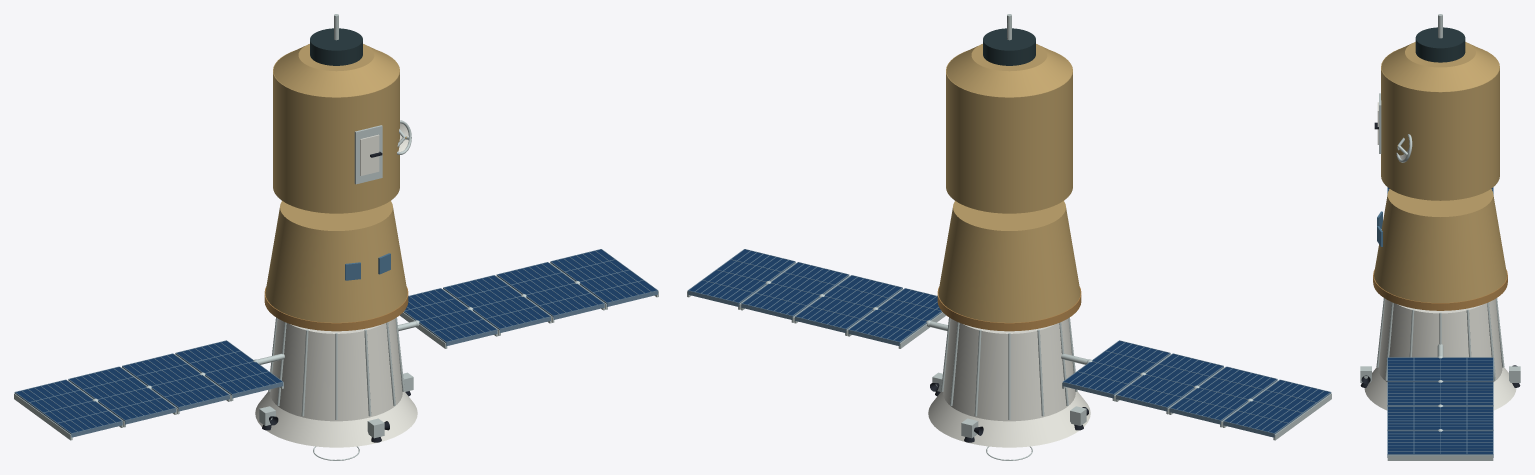
File: shenzhou.glb
3 views of the same model, side by side, from view 1: azimuth 30°, elevation 25°; view 2: azimuth 150°, elevation 25°; view 3: azimuth 270°, elevation 25° (orthographic). The views are drawn at different scales.
Parts seen in each view (by area): view 1: photovoltaic-panel (×8), body, service, crew, solar (×8), docking, heatshield; view 2: photovoltaic-panel (×8), body, service, crew, solar (×8), docking, heatshield; view 3: body, crew, photovoltaic-panel (×4), service, solar (×4), docking (×2), heatshield.
Boxes of the visible parts, left/top/right/bottom form: photovoltaic-panel (×8): left=16, top=249, right=656, bottom=432; body: left=273, top=44, right=399, bottom=213; service: left=255, top=317, right=417, bottom=460; crew: left=265, top=201, right=407, bottom=322; solar (×8): left=14, top=249, right=658, bottom=440; docking: left=310, top=14, right=362, bottom=65; heatshield: left=264, top=287, right=408, bottom=331; photovoltaic-panel (×8): left=689, top=249, right=1329, bottom=432; body: left=946, top=44, right=1072, bottom=213; service: left=928, top=317, right=1090, bottom=460; crew: left=938, top=201, right=1080, bottom=322; solar (×8): left=687, top=249, right=1331, bottom=440; docking: left=983, top=14, right=1035, bottom=65; heatshield: left=937, top=287, right=1081, bottom=331; body: left=1374, top=42, right=1499, bottom=200; crew: left=1374, top=189, right=1506, bottom=302; photovoltaic-panel (×4): left=1388, top=358, right=1492, bottom=453; service: left=1360, top=298, right=1520, bottom=410; solar (×4): left=1387, top=357, right=1493, bottom=460; docking (×2): left=1396, top=14, right=1465, bottom=162; heatshield: left=1373, top=269, right=1507, bottom=310.
Size of the model in its own units: 7.69 by 5.45 by 1.94.
